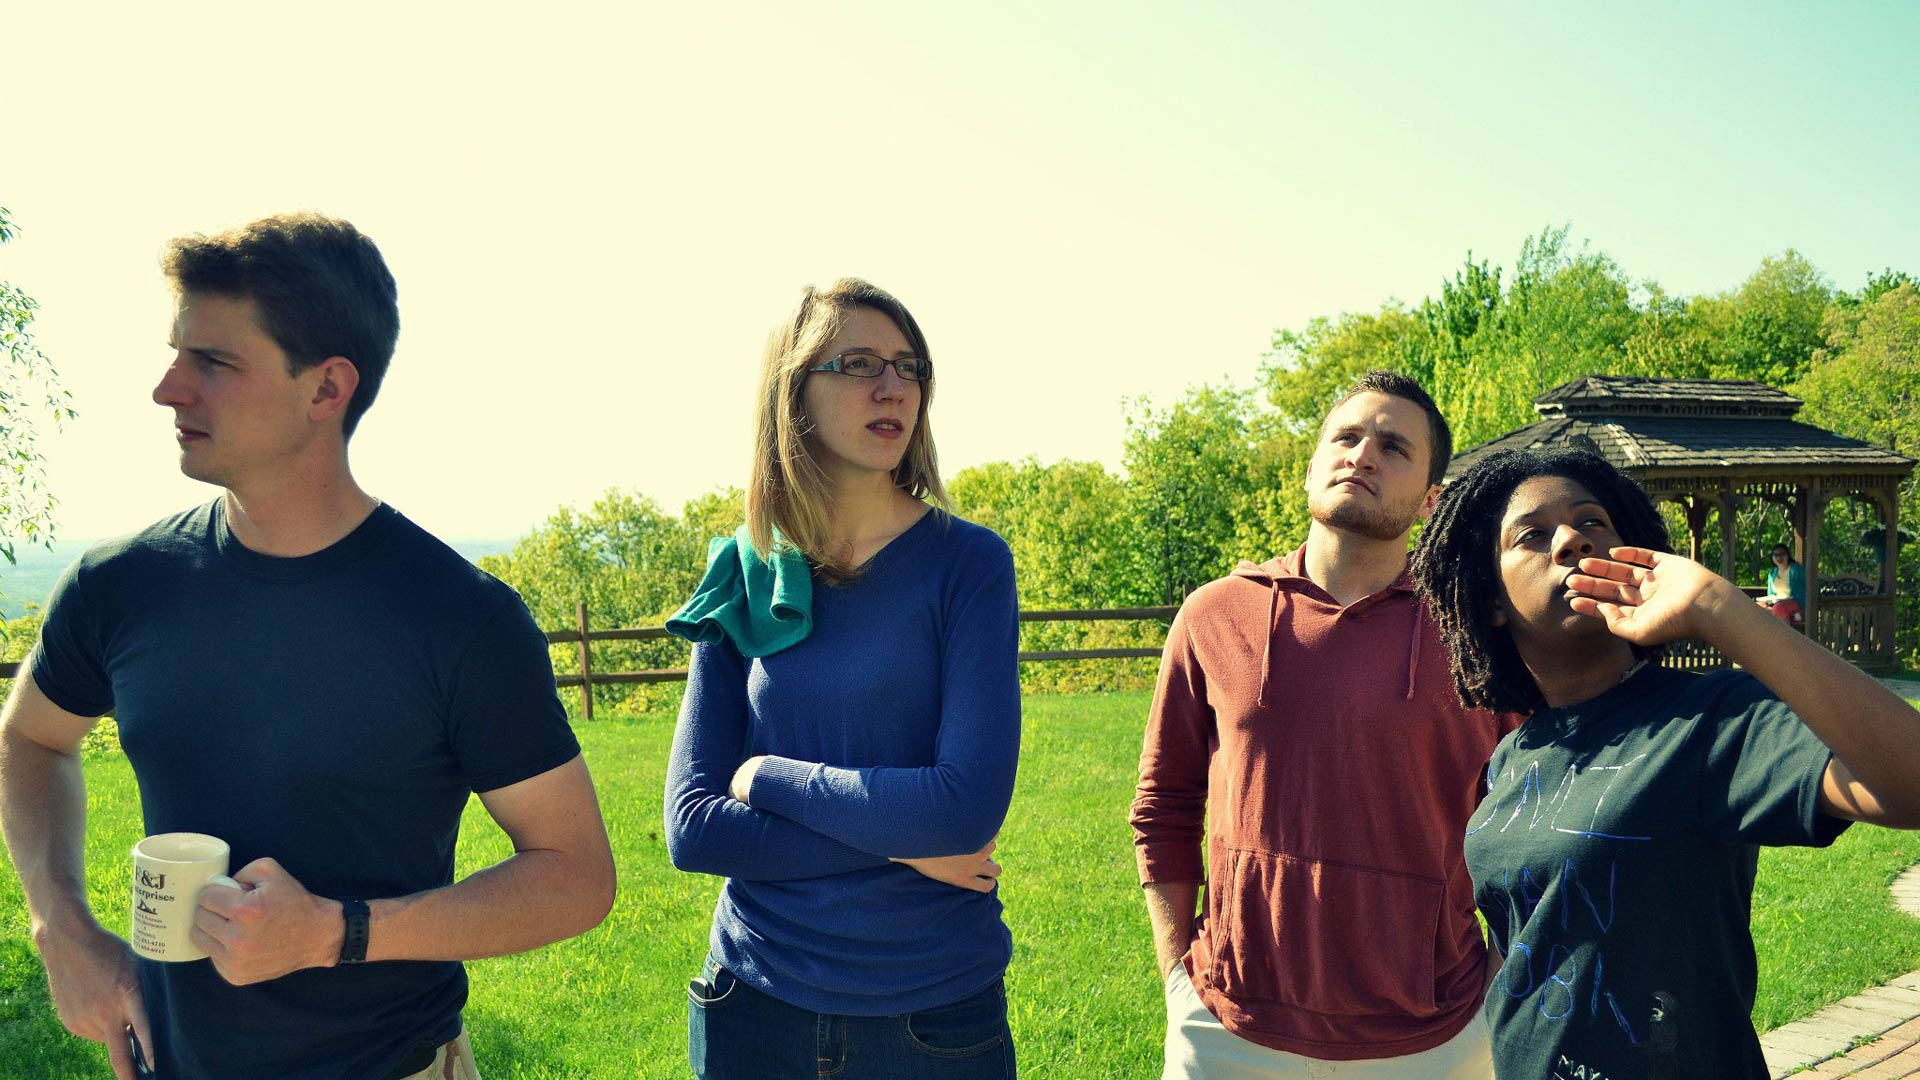Person: (1, 230, 580, 1080), (670, 310, 1050, 1080), (1470, 470, 1850, 1080), (1210, 390, 1460, 1080)
